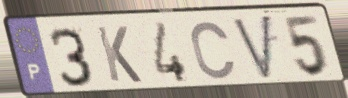3: (49, 25, 96, 89)
4: (152, 20, 189, 85)
5: (279, 12, 332, 79)
C: (188, 19, 238, 82)
K: (94, 24, 145, 85)
V: (230, 12, 274, 84)
